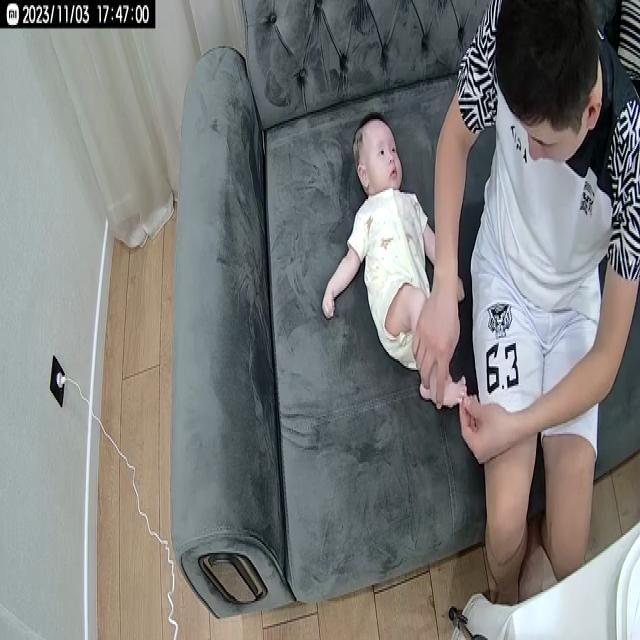baby: (320, 109, 470, 412)
